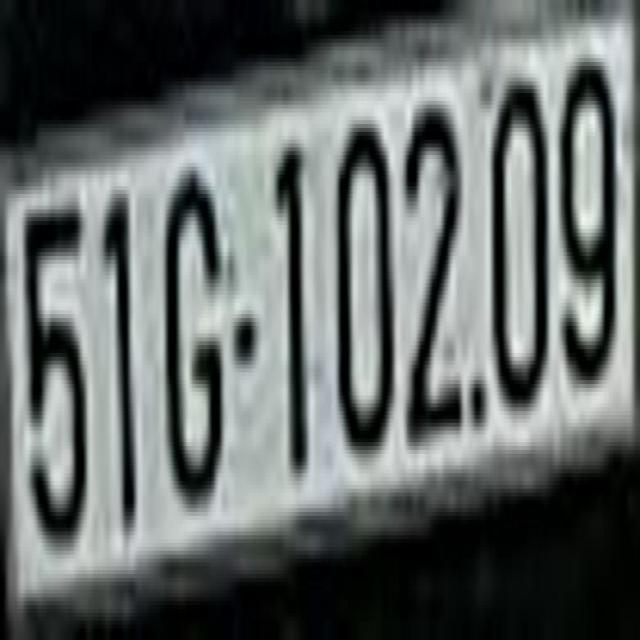0: (334, 108, 394, 466), (490, 66, 550, 415)
1: (100, 171, 144, 544), (270, 136, 316, 473)
2: (404, 89, 464, 442)
5: (15, 182, 88, 555)
9: (558, 47, 619, 400)
G: (162, 155, 224, 508)
